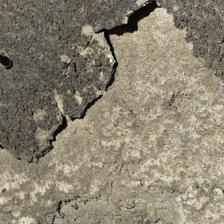Crack: (27, 39, 151, 70), (20, 72, 100, 88)
